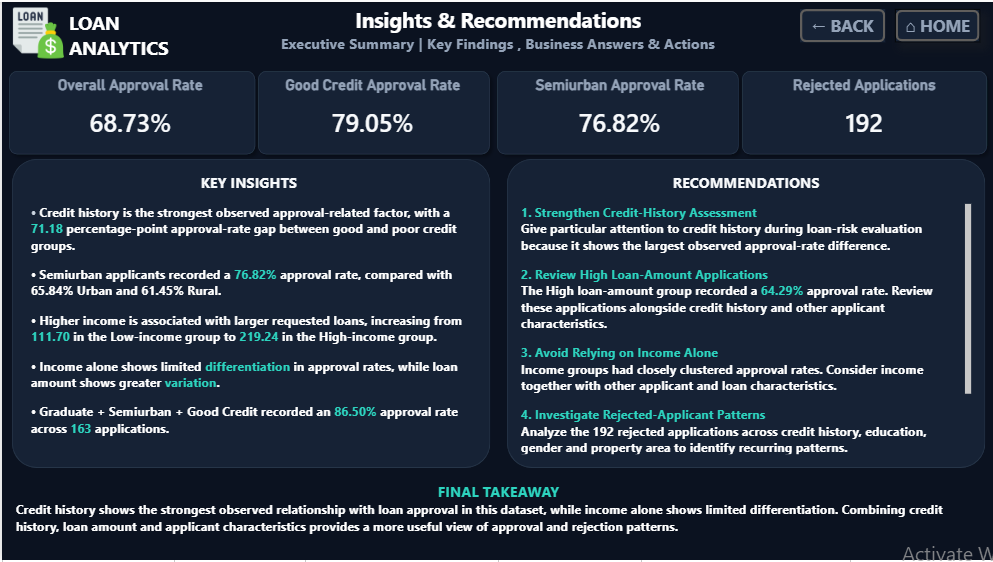

What the dashboard file says about the page in this screenshot:
{"tool":"powerbi","page":{"name":"Key Insights and Recommendations.","canvas":[1280,720],"ordinal":6},"visuals":[{"type":"textbox","box":[0,0,1279.8,79.4],"z":0},{"type":"textbox","box":[80.8,5.7,255.1,90.7],"z":0,"group":"g1"},{"type":"shape","box":[0,80,335.7,125.7],"z":0,"group":"g2"},{"type":"shape","box":[321.4,80,317.1,125.7],"z":0,"group":"g3"},{"type":"shape","box":[630,80,330,125.7],"z":0,"group":"g4"},{"type":"shape","box":[945.7,80,334.3,125.7],"z":0,"group":"g5"},{"type":"group","id":"g1","title":"Group 6","box":[12.8,0,323.1,96.4],"z":1000},{"type":"image","box":[12.8,0,68,79.4],"z":1000,"group":"g1"},{"type":"cardVisual","title":"Overall Approval Rate","fields":{"Data":["loan_data.approval_rate"]},"box":[15.9,95.7,300.4,92.9],"z":1000,"group":"g2"},{"type":"cardVisual","title":"Good Credit Approval Rate","fields":{"Data":["loan_data.Good Credit Approval Rate"]},"box":[336.4,95.7,283.7,92.9],"z":1000,"group":"g3"},{"type":"cardVisual","title":"Semiurban Approval Rate","fields":{"Data":["loan_data.approval_rate"]},"box":[648.8,95.7,296.8,92.9],"z":1000,"group":"g4"},{"type":"cardVisual","title":"Rejected Applications","fields":{"Data":["loan_data.rejected_applications"]},"box":[962.5,95.8,300.1,92.9],"z":1000,"group":"g5"},{"type":"group","id":"g2","title":"Group 1","box":[0,80,335.7,125.7],"z":2000},{"type":"group","id":"g3","title":"Group 1","box":[321.4,80,318.6,125.7],"z":3000},{"type":"group","id":"g4","title":"Group 1","box":[630,80,330,125.7],"z":4000},{"type":"group","id":"g5","title":"Group 1","box":[945.7,80,334.3,125.7],"z":5000},{"type":"shape","box":[12.9,202.9,617.1,398.6],"z":6000},{"type":"shape","box":[651.4,202.9,617.1,398.6],"z":7000},{"type":"textbox","box":[32.9,215.7,572.9,40],"z":8000},{"type":"textbox","box":[664.3,215.7,591.4,40],"z":9000},{"type":"textbox","box":[32.9,255.7,572.9,332.9],"z":10000},{"type":"textbox","box":[664.3,255.7,591.4,332.9],"z":11000},{"type":"textbox","box":[12.9,614.3,1255.7,91.4],"z":12000},{"type":"actionButton","box":[1152.9,8.6,110,42.9],"z":13000},{"type":"actionButton","box":[1030,8.6,110,42.9],"z":14000}]}

Visuals, with their boxes in screenshot pixels (x1, y1, x2, y2), scaled from the page's 1280x720 canvas onto the 993x562 screenshot:
textbox: [0, 0, 992, 62]
textbox: [63, 4, 261, 75]
shape: [0, 62, 260, 161]
shape: [249, 62, 495, 161]
shape: [489, 62, 745, 161]
shape: [734, 62, 992, 161]
"Group 6" group: [10, 0, 261, 75]
image: [10, 0, 63, 62]
"Overall Approval Rate" cardVisual: [12, 75, 245, 147]
"Good Credit Approval Rate" cardVisual: [261, 75, 481, 147]
"Semiurban Approval Rate" cardVisual: [503, 75, 734, 147]
"Rejected Applications" cardVisual: [747, 75, 980, 147]
"Group 1" group: [0, 62, 260, 161]
"Group 1" group: [249, 62, 496, 161]
"Group 1" group: [489, 62, 745, 161]
"Group 1" group: [734, 62, 992, 161]
shape: [10, 158, 489, 470]
shape: [505, 158, 984, 470]
textbox: [26, 168, 470, 200]
textbox: [515, 168, 974, 200]
textbox: [26, 200, 470, 459]
textbox: [515, 200, 974, 459]
textbox: [10, 479, 984, 551]
actionButton: [894, 7, 980, 40]
actionButton: [799, 7, 884, 40]
